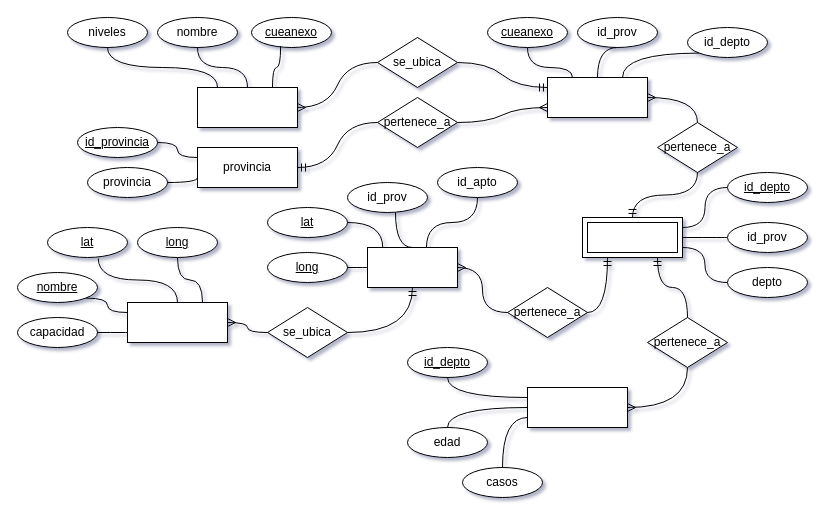
Some shapes in this 831 by 521 pixel diagram are drawn without their labels. Here are the shapes that lost their labels. From the top down, the centre of each, then its label:
the point at 247,107: EE
the point at 597,97: localidad_ee
the point at 632,237: departamento
the point at 412,267: localidad_cc
the point at 177,322: CC
the point at 577,407: PP
